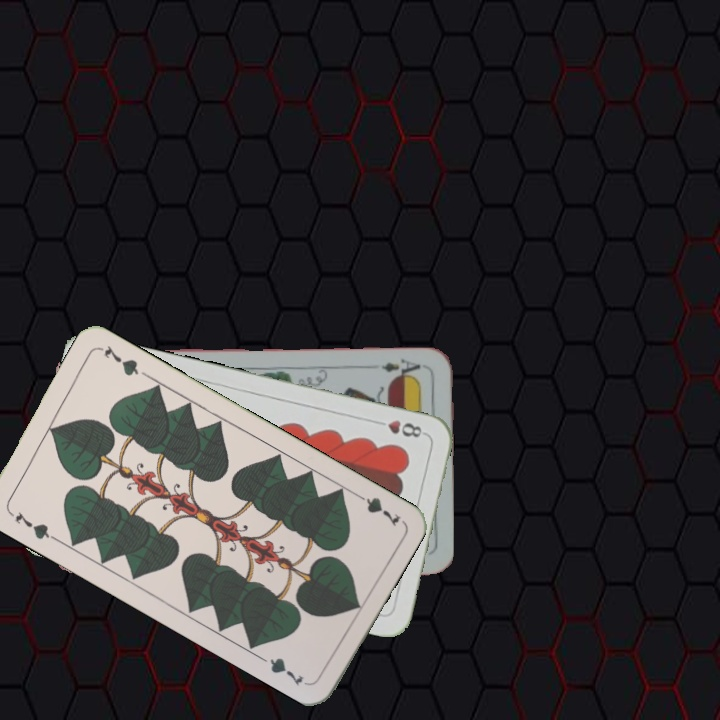EA: (378, 355, 423, 381)
G7: (349, 488, 403, 529), (11, 507, 58, 543)
H8: (370, 416, 428, 440)
